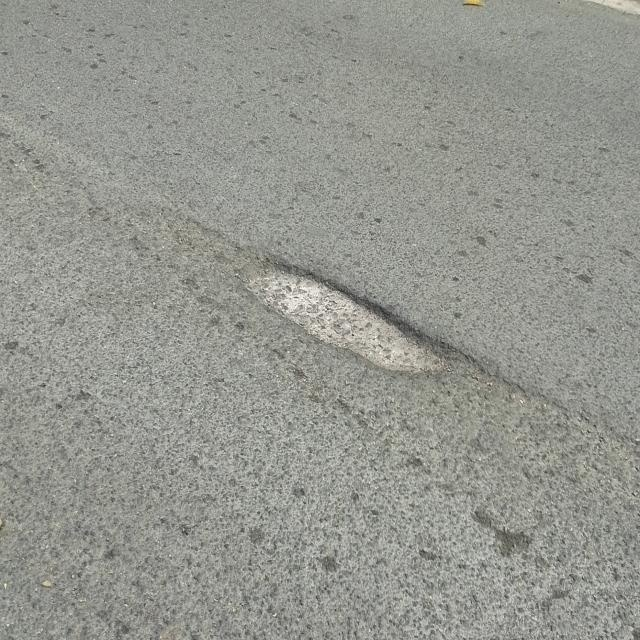pothole: (248, 231, 450, 398)
